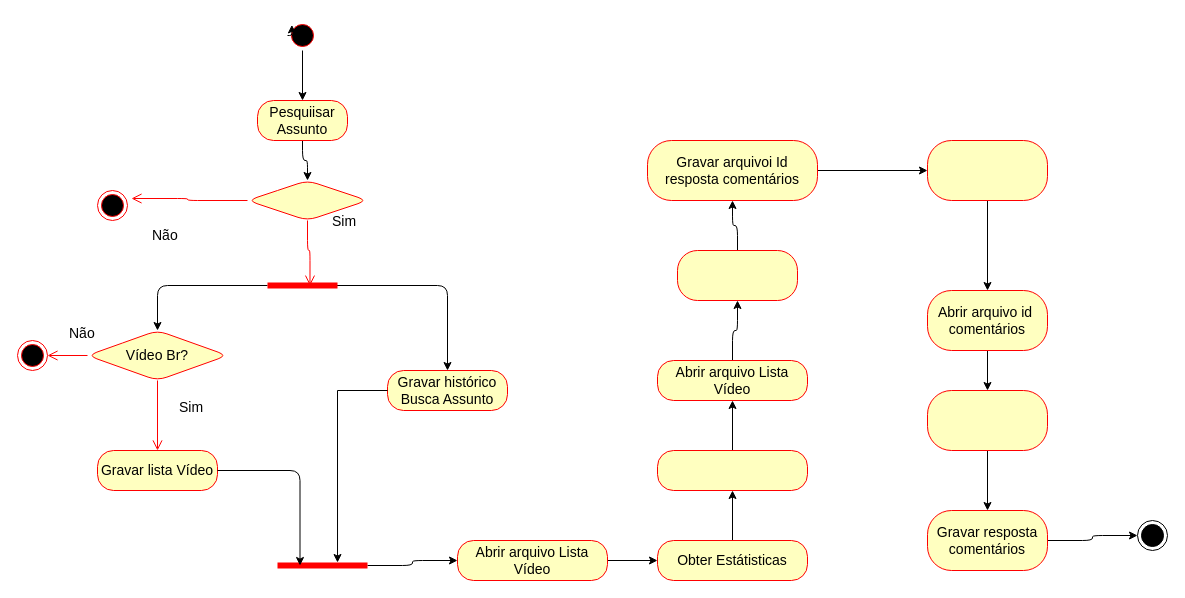
Image size: 1185x598. Some labels were removed from this diagram. The shapes that lost their labels are listed below. From the top down, each one's centre as x and y in pixels, then its label:
point (987, 170): Gravar requisição comentários
point (307, 200): Possi dados?
point (737, 275): Obter Comentários
point (987, 420): Obter resposta comentários
point (732, 470): Gravar dados Estátisticas
